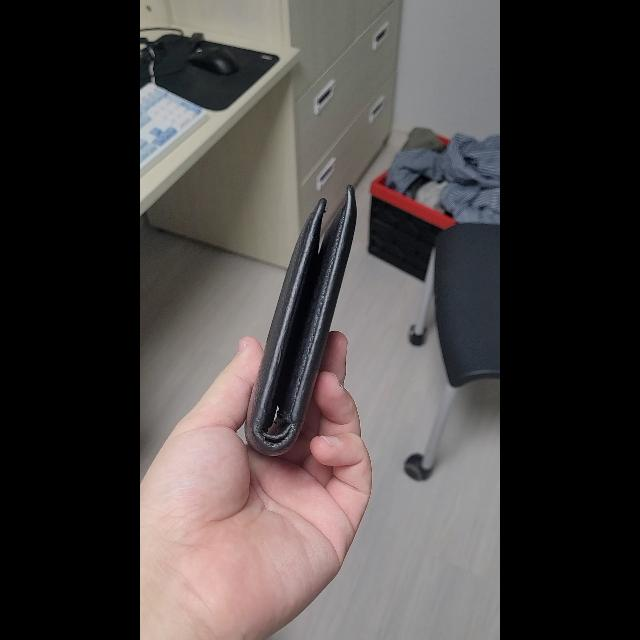WALLET: (244, 184, 356, 456)
